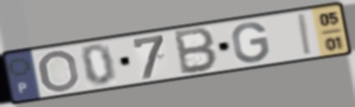0: (80, 42, 117, 88)
7: (131, 33, 166, 80)
B: (173, 25, 220, 76)
G: (230, 21, 272, 64)
I: (297, 12, 315, 58)
O: (37, 49, 82, 94)
